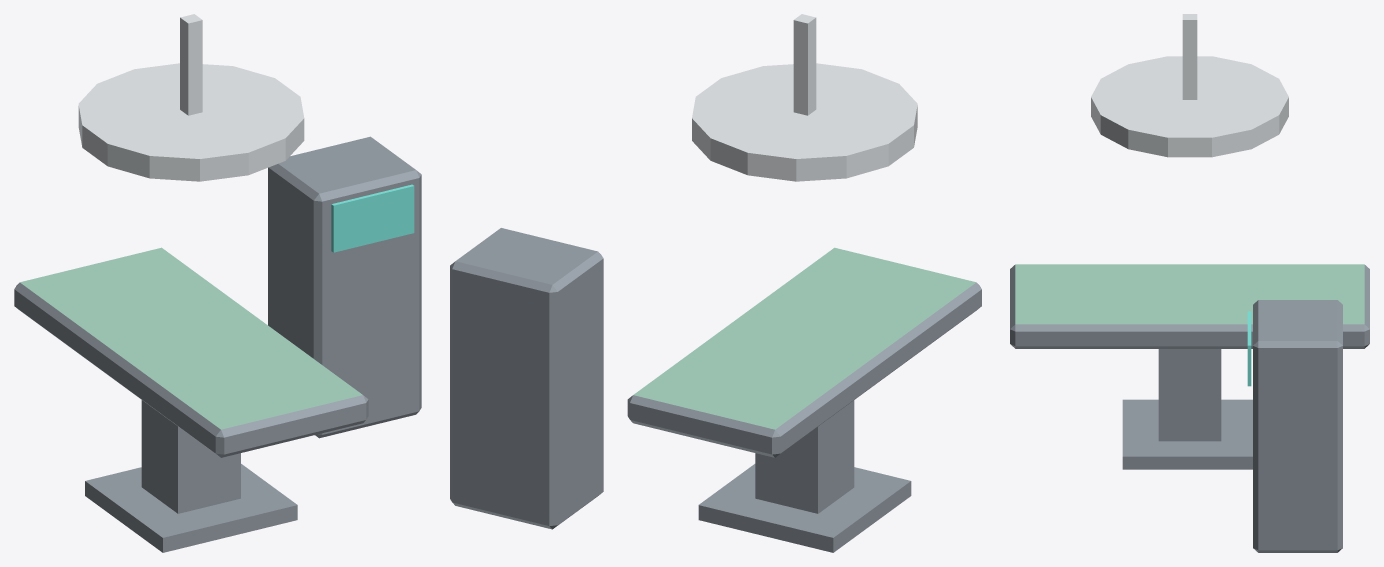
The model's file is or_table.fbx.
The picture shows the model from 3 angles, left to right: view 1: azimuth 30°, elevation 25°; view 2: azimuth 150°, elevation 25°; view 3: azimuth 270°, elevation 25°; orthographic projection. The views are drawn at different scales.
Parts seen in each view (by area): view 1: or_table; view 2: or_table; view 3: or_table.
Boxes of the visible parts, x1,y1,x2,y2 form: or_table: (14,14,421,552); or_table: (450,14,981,552); or_table: (1010,14,1369,552).
Size of the model in its own units: 2.04 by 2.6 by 2.
